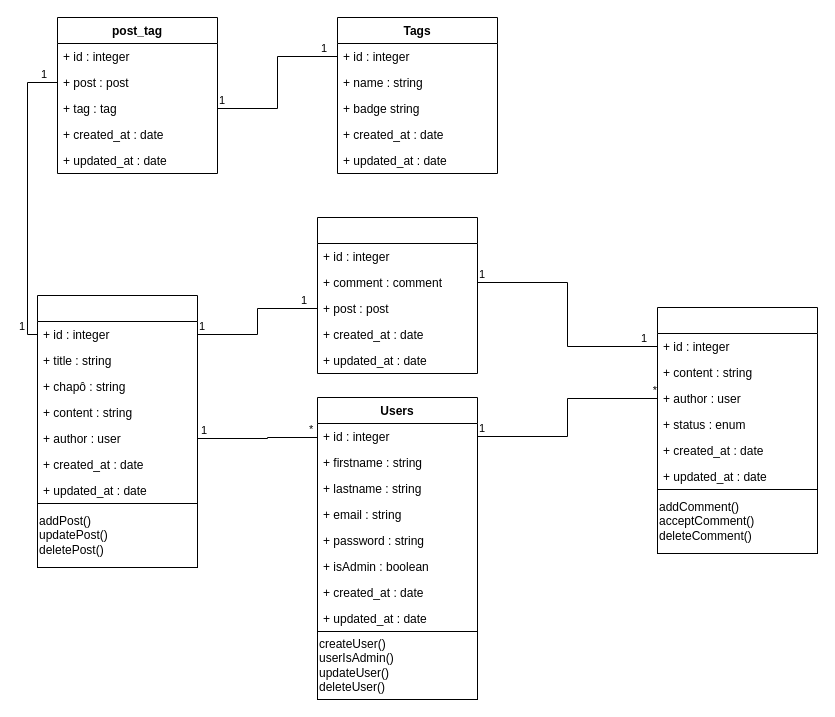
The diagram is 835 pixels wide and 717 high, and some of its shapes have lost their labels. The box of each missing label's shape, as (x1, y1, x2, y2) in pixels:
comment_post: (316, 216, 478, 374)
Comments: (656, 306, 818, 490)
Posts: (36, 294, 198, 568)
